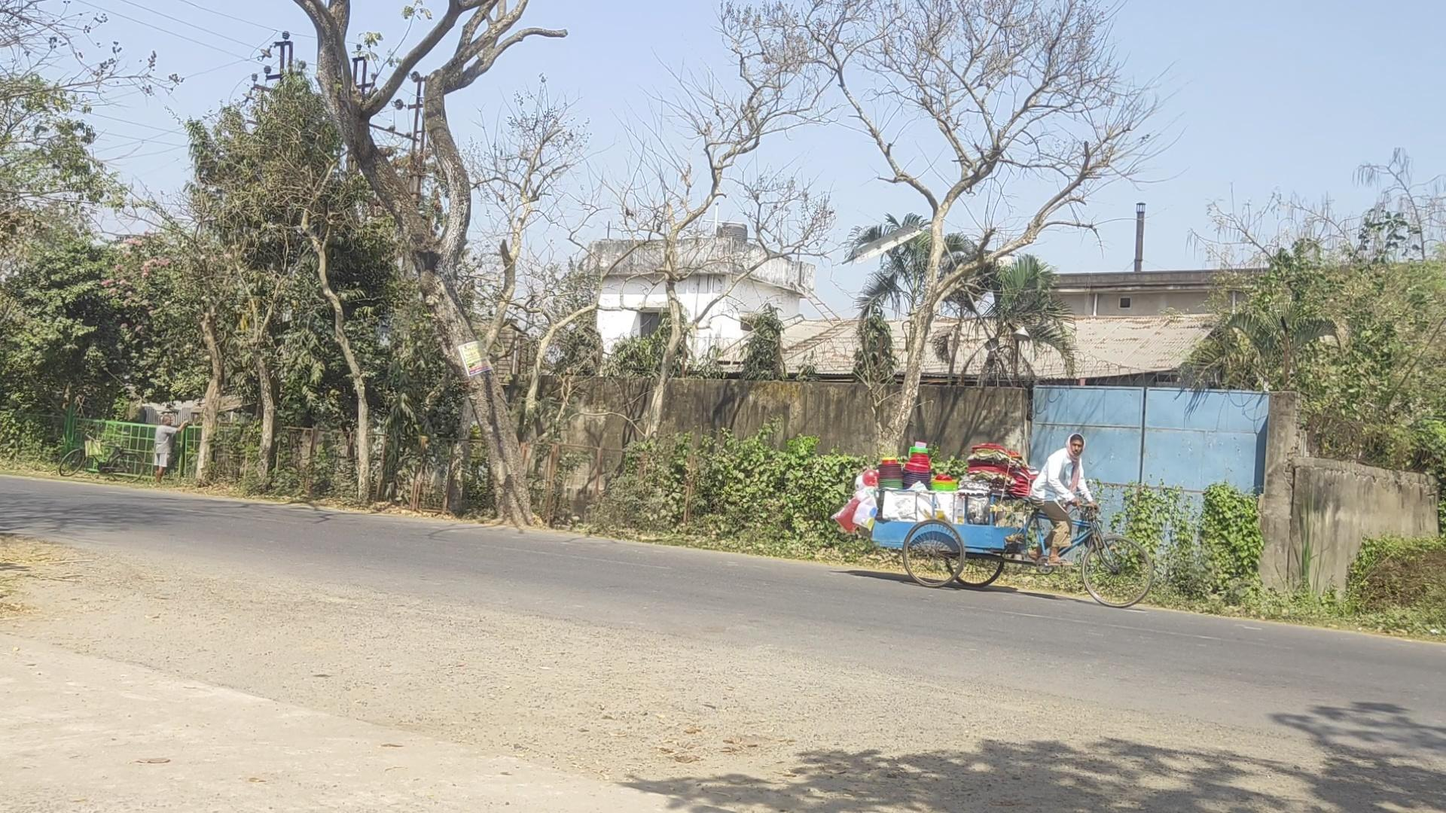bike: (59, 430, 145, 483)
